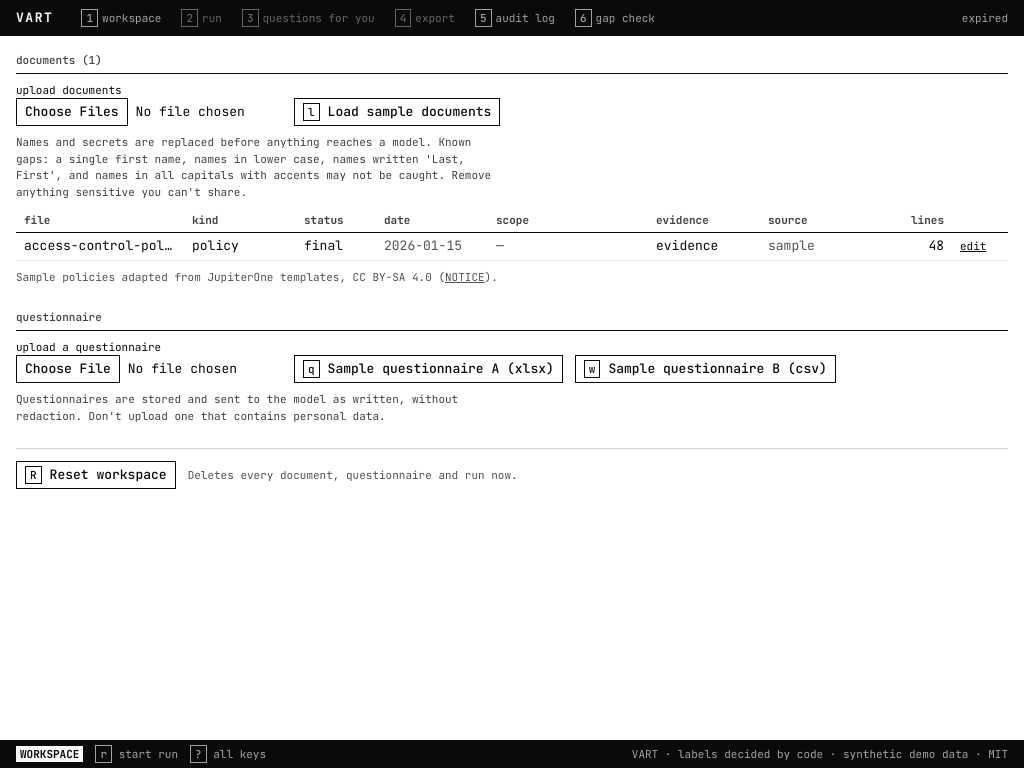
Test: Workspace › an override reports how many answers were decided again
Click the button with aria-label "Edit access-control-policy.docx": (973, 246) [960,238,986,254]
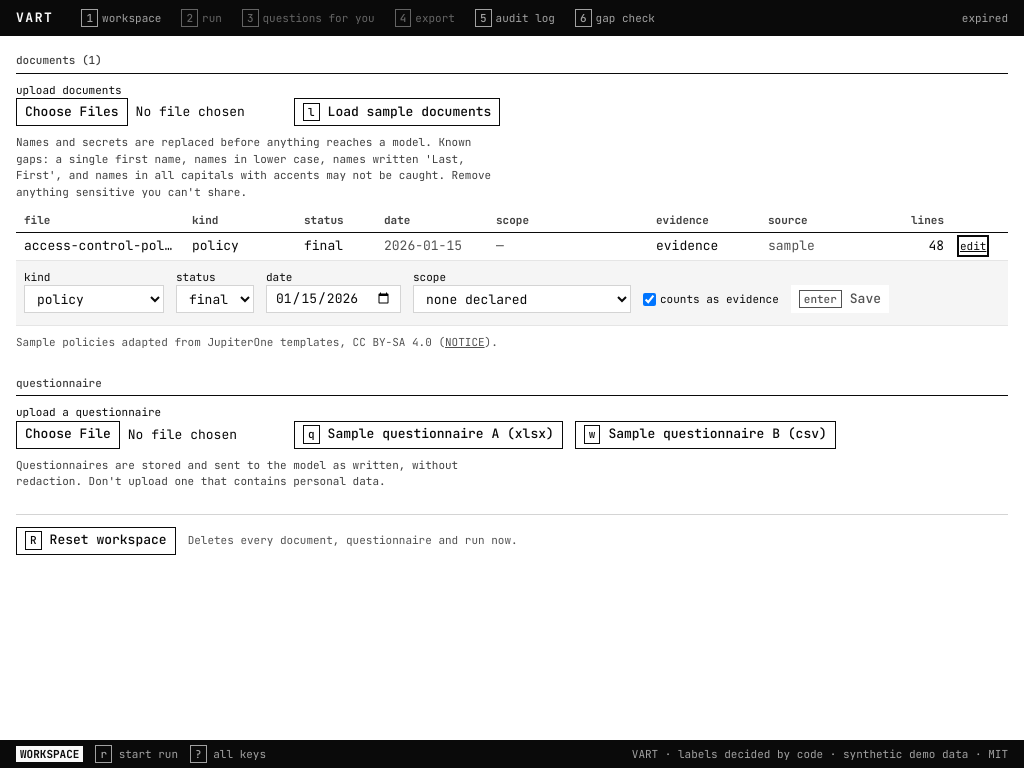
Select "draft" in the dropdown labelled "status": (215, 299) [176,285,254,313]
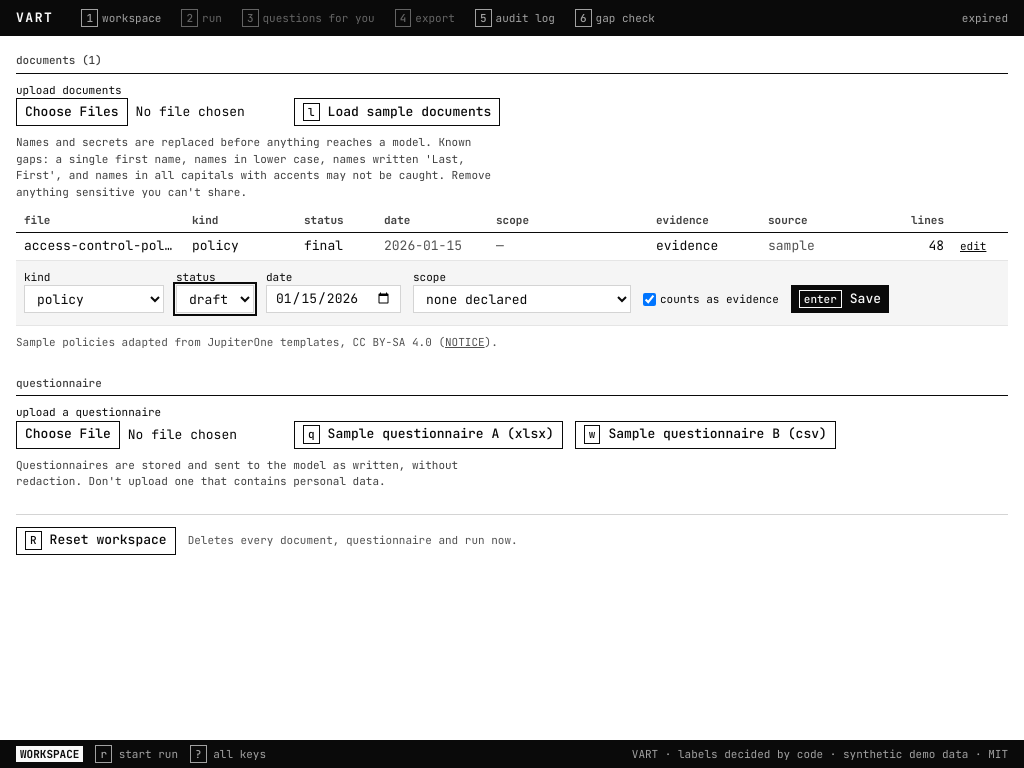
Click the button "enter Save": (840, 299) [791,285,889,313]
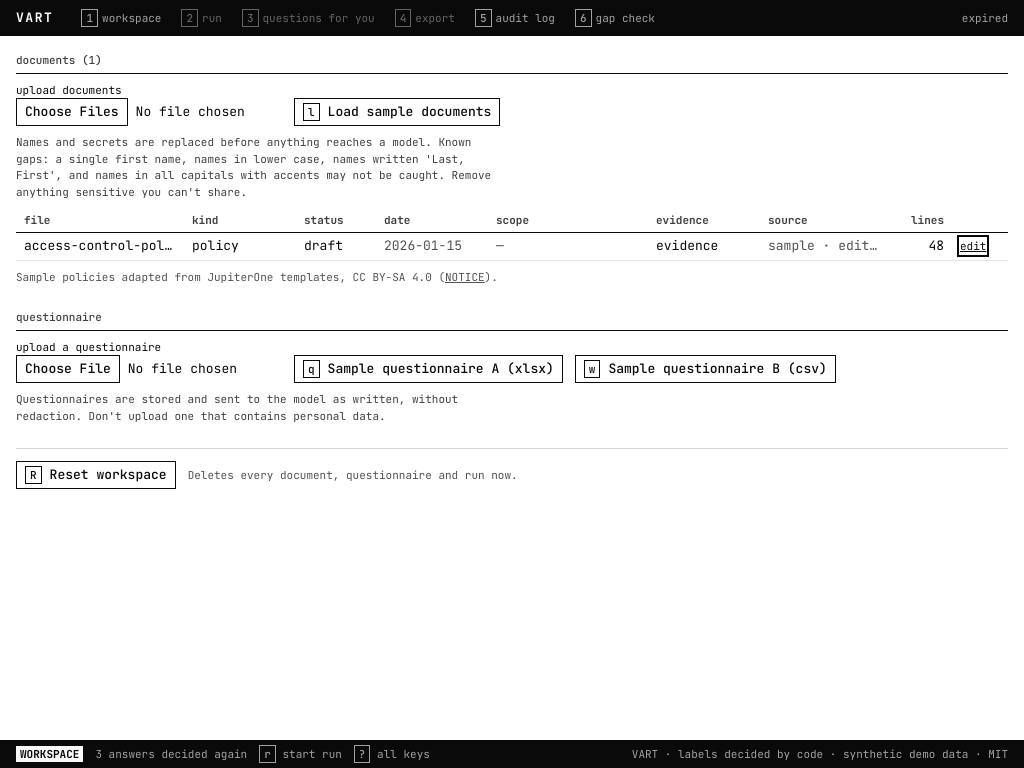
Check: the text "3 answers decided again" is shown, box [95,746,247,762]
